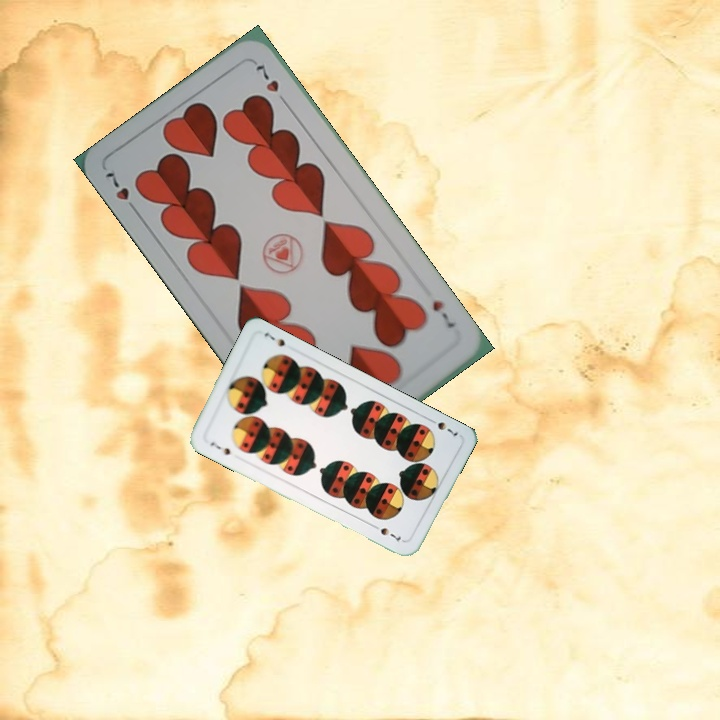H7: (101, 168, 141, 217), (428, 296, 458, 331)
S7: (424, 414, 461, 439), (206, 438, 233, 458)
